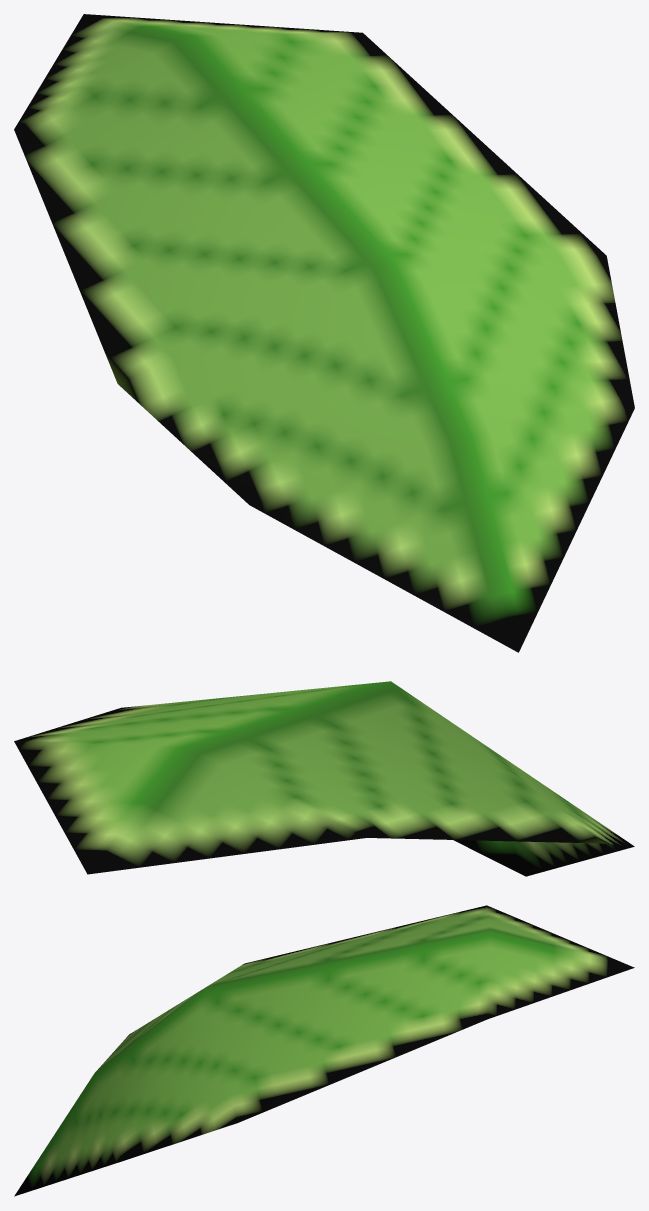
File: deco_leafLarge.FBX
3 renders of one model, top to bottom at view 1: azimuth 30°, elevation 25°; view 2: azimuth 150°, elevation 25°; view 3: azimuth 270°, elevation 25°, orthographic. The views are drawn at different scales.
Parts seen in each view (by area): view 1: deco_leafLarge; view 2: deco_leafLarge; view 3: deco_leafLarge.
Part boxes in pixels (box(x1,y1,x2,y2)): deco_leafLarge: box(14, 14, 634, 652); deco_leafLarge: box(14, 681, 634, 876); deco_leafLarge: box(14, 905, 634, 1196).
Bounding box in the file's own units: 0.6576 × 0.4821 × 1.02.
Materials: 1 (1 with a texture image).
